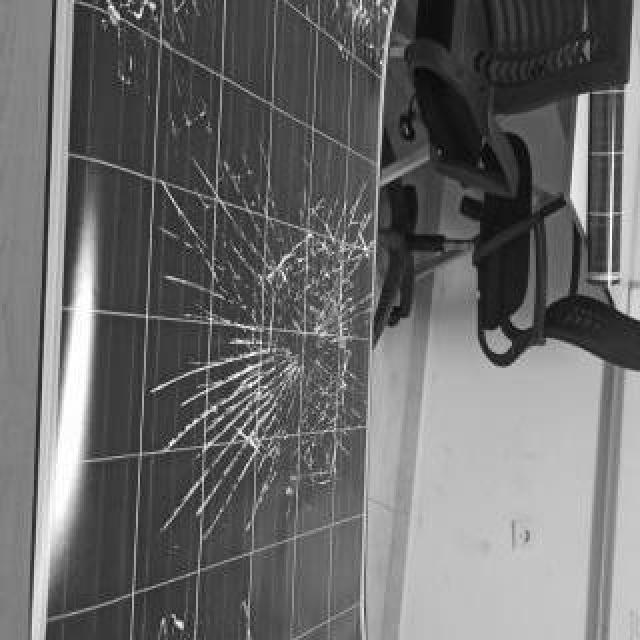Physical-damage: (153, 109, 365, 636), (91, 3, 387, 90)
